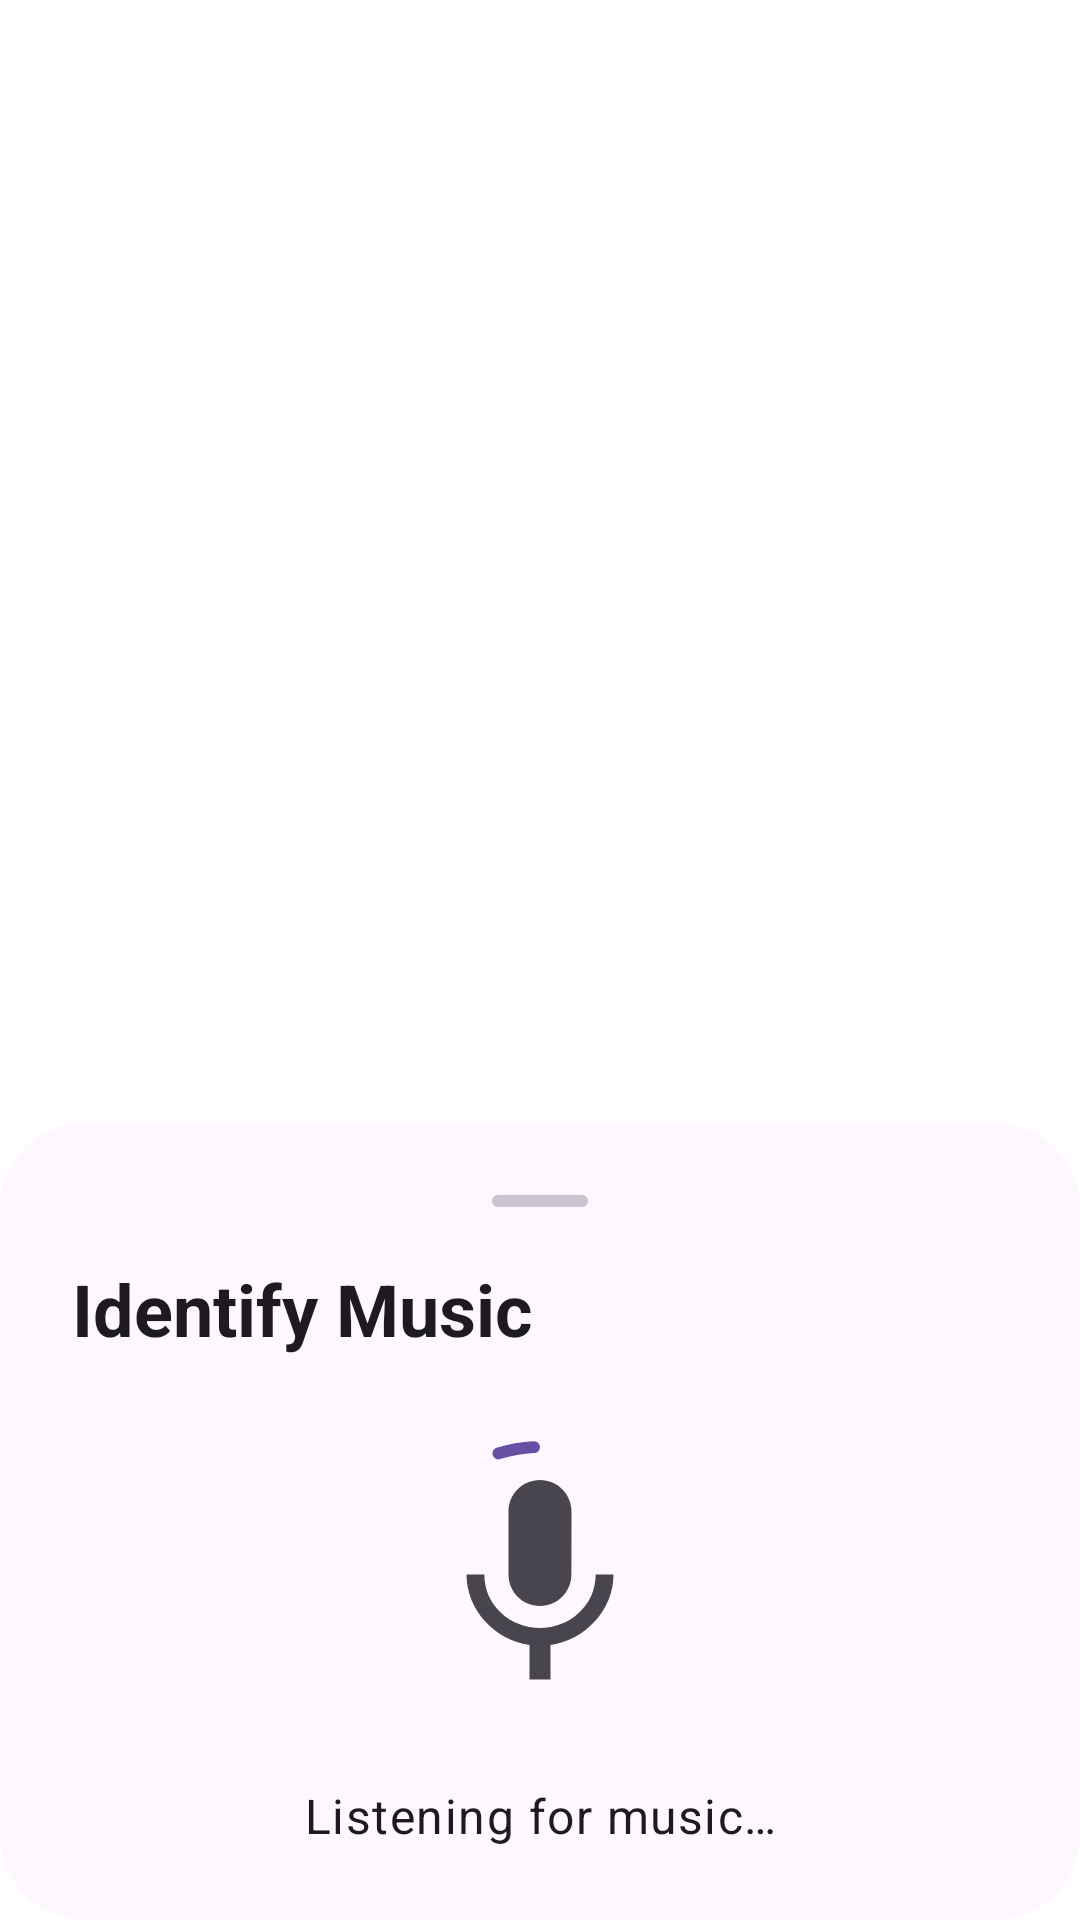

Icons on this 1080px x 1920px Android screen, each with its box as {"x1": x1, "y1": y1, "x2": x2, "y2": y2}:
mic: {"x1": 466, "y1": 1480, "x2": 614, "y2": 1680}
